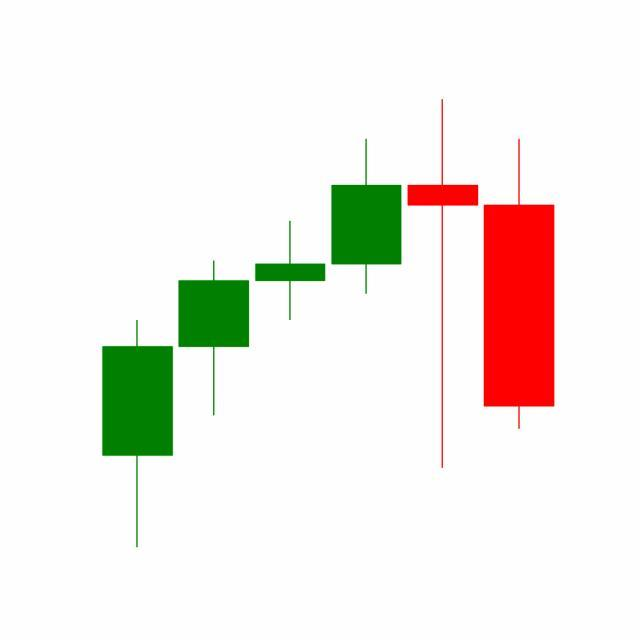Spinning Top: (404, 96, 482, 473)
